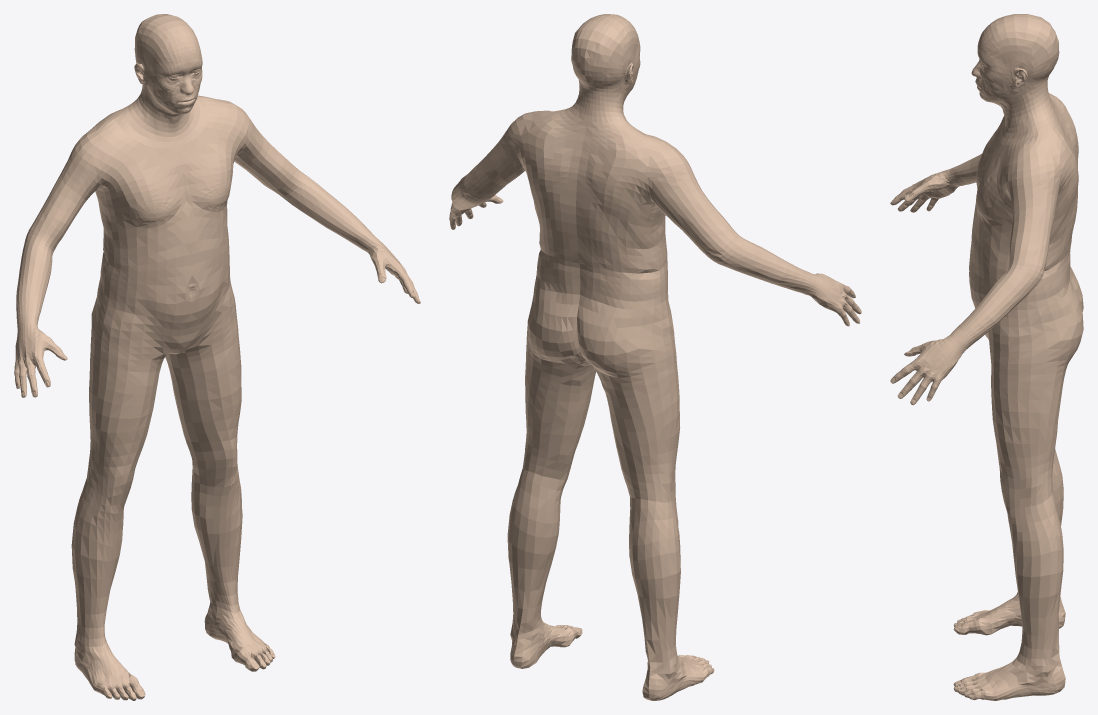
The model's file is male-mature-heavy-toned.glb.
The picture shows the model from 3 angles, left to right: view 1: azimuth 30°, elevation 25°; view 2: azimuth 150°, elevation 25°; view 3: azimuth 270°, elevation 25°; orthographic projection.
Parts seen in each view (by area): view 1: world; view 2: world; view 3: world.
Boxes of the visible parts, x1,y1,x2,y2 form: world: (14,14,420,700); world: (449,14,861,700); world: (890,14,1083,700).
Size of the model in its own units: 1.25 by 1.94 by 0.5268.
